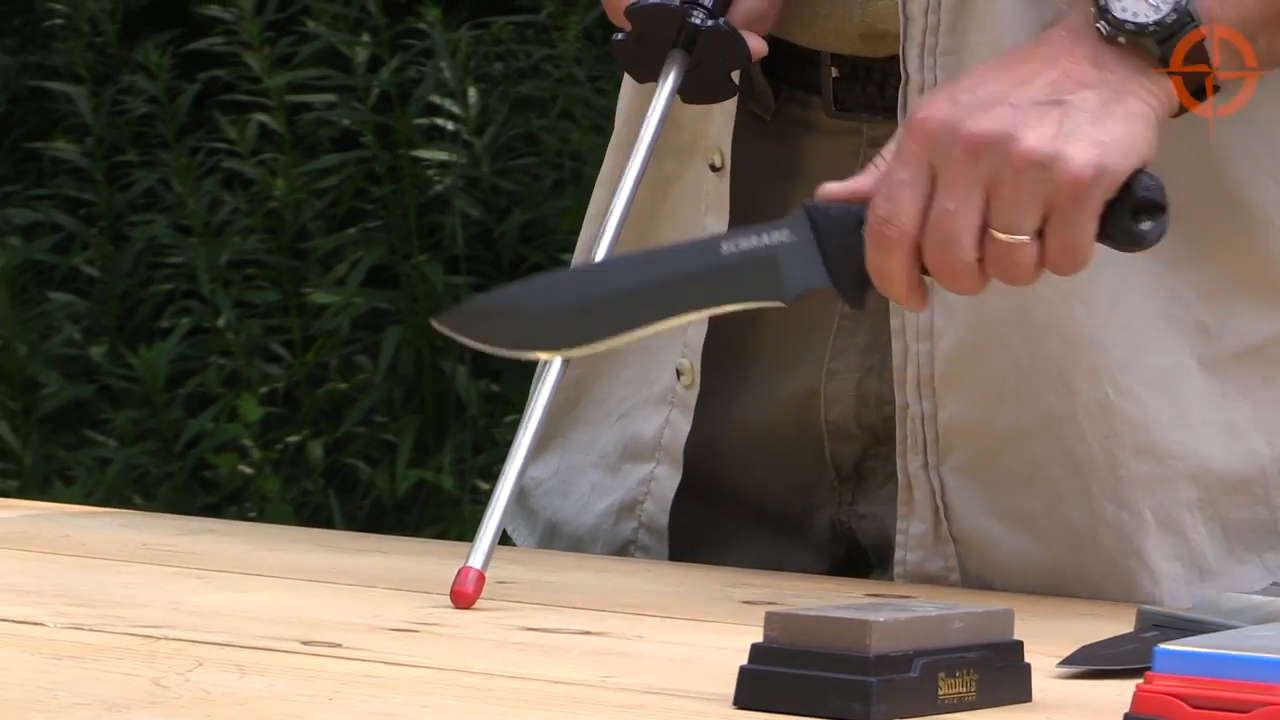knife: (400, 133, 1182, 379)
